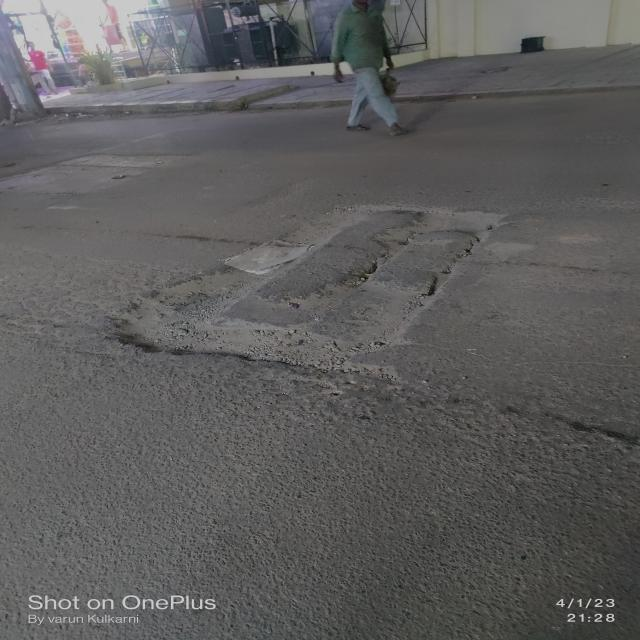manhole: (105, 201, 530, 392)
